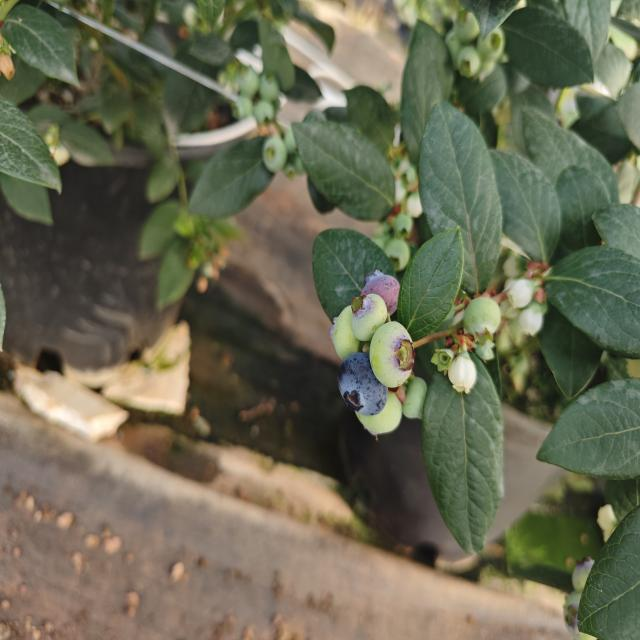ripe: (333, 352, 393, 422), (358, 266, 406, 320)
